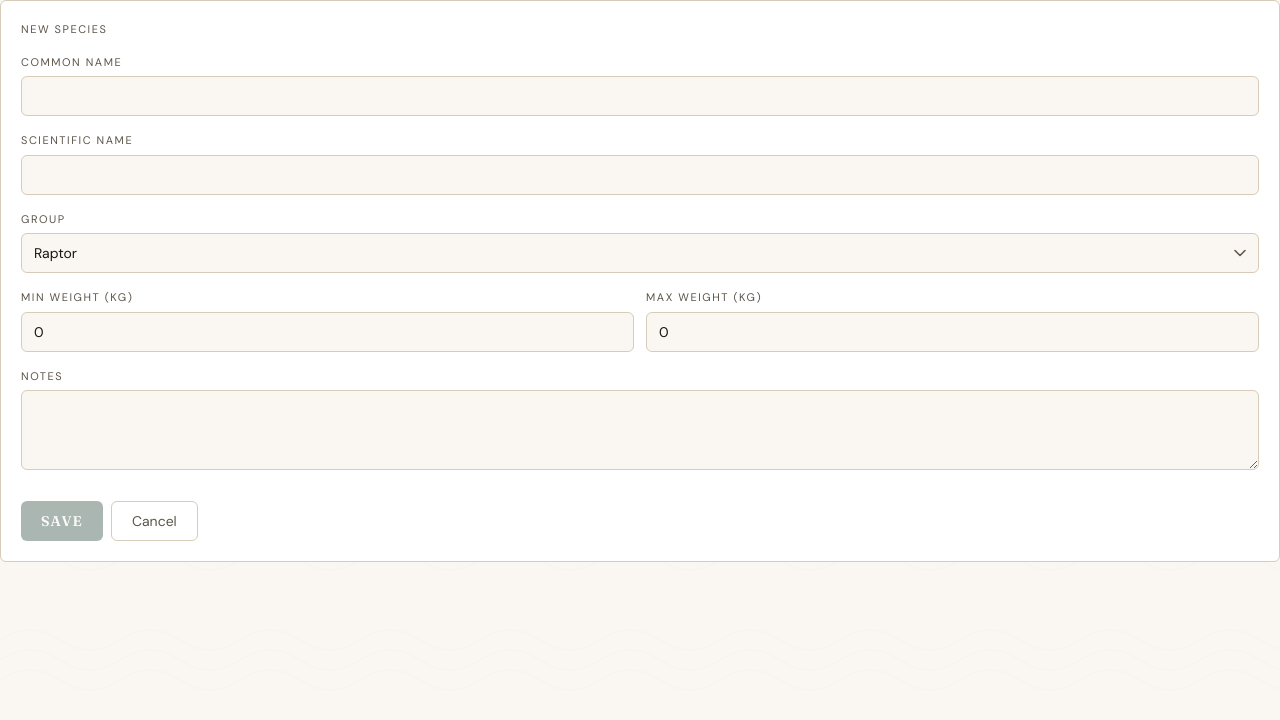
Test case: SpeciesEditor › warns when old rules already target the new id
Type "Wood Stork" into the field labelled "Common name" at (640, 96), box [21,76,1259,116]
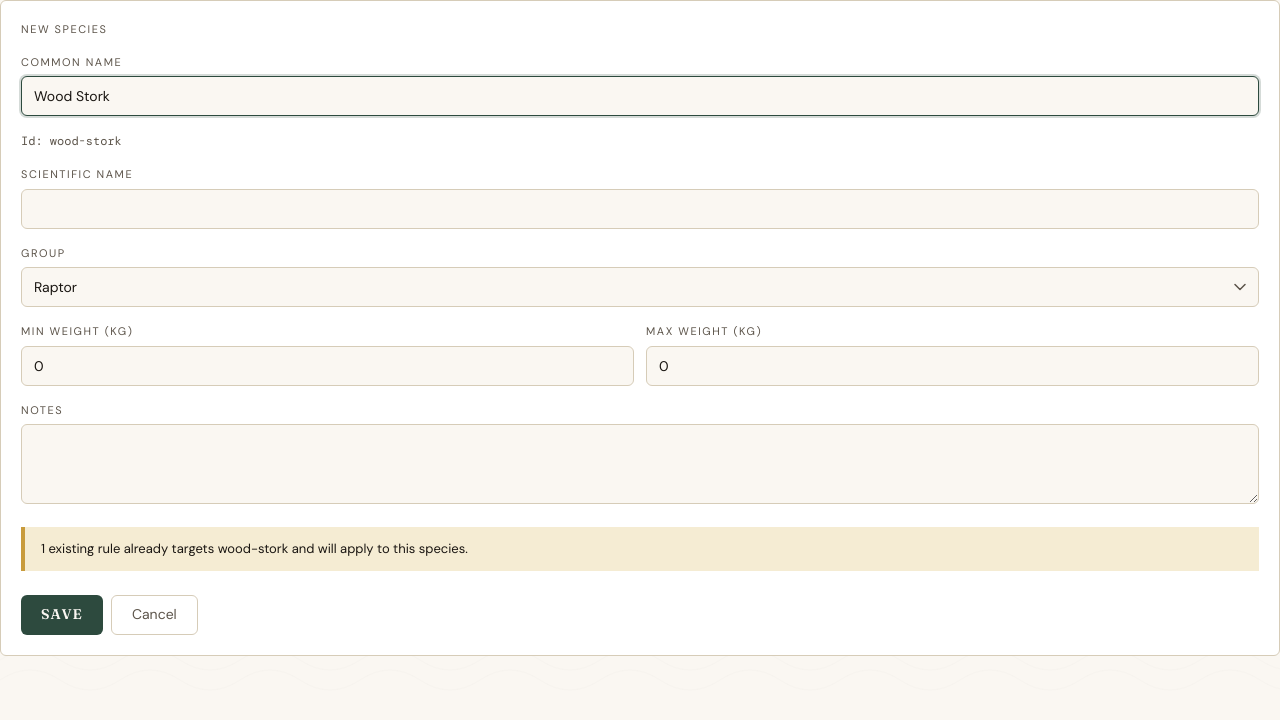
Expected: the text "1 existing rule already targets wood-stork and will apply to this species." is shown, [21,527,1259,570]
Expected: the button "Save" is enabled, [21,594,103,634]
